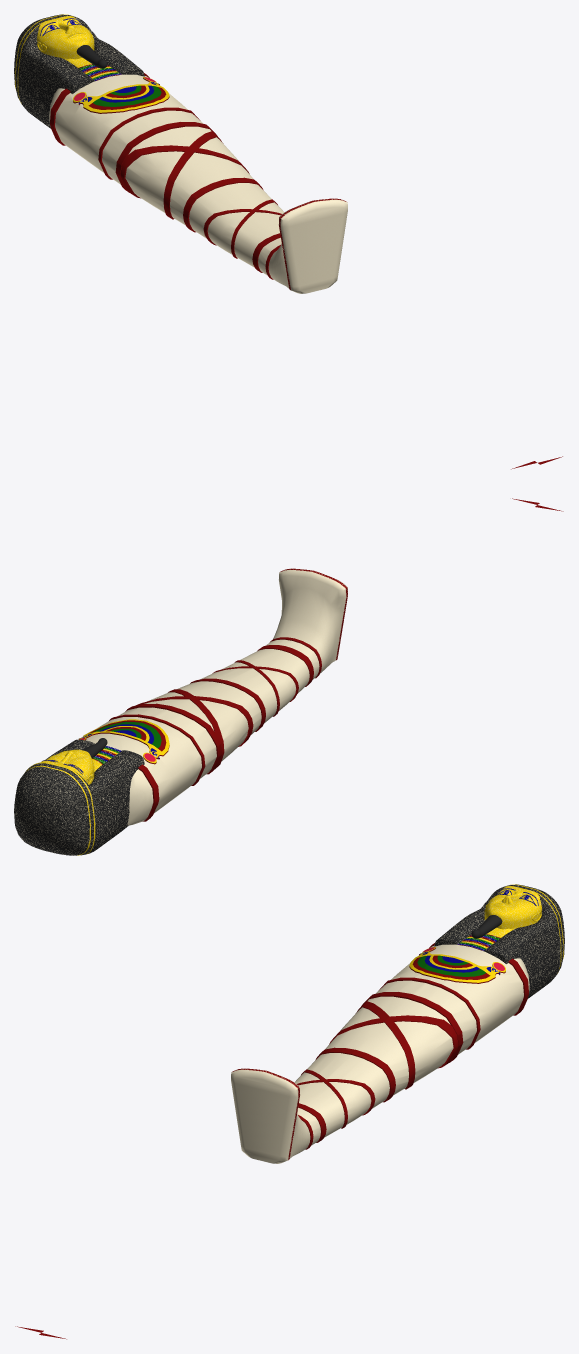
The model's file is mummy.dae.
3 renders of one model, top to bottom at view 1: azimuth 30°, elevation 25°; view 2: azimuth 150°, elevation 25°; view 3: azimuth 330°, elevation 25°, orthographic.
Parts seen in each view (by area): view 1: group_0 (×10); view 2: group_0 (×13); view 3: group_0 (×10).
Part boxes in pixels (x1,y1,x2,y2): group_0 (×10): [17, 16, 347, 293]; group_0 (×13): [14, 570, 346, 855]; group_0 (×10): [231, 886, 561, 1163].
Size of the model in its own units: 14.17 by 116 by 12.46.
